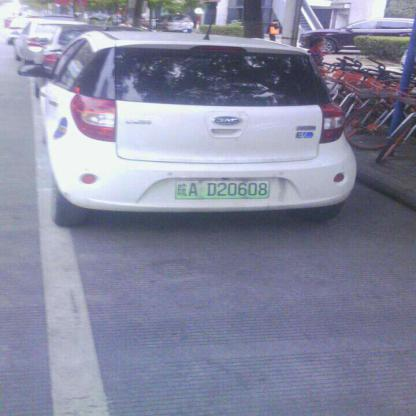lp: (174, 178, 270, 197)
